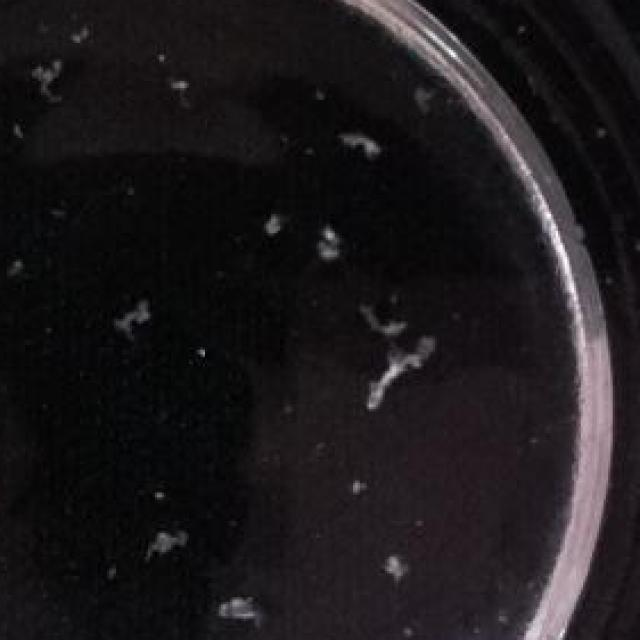Microplastic: (355, 343, 444, 421), (20, 40, 82, 93), (330, 102, 387, 152), (214, 573, 262, 628), (52, 24, 107, 66), (114, 292, 159, 338), (364, 307, 410, 347), (146, 512, 193, 547), (312, 212, 342, 266), (389, 543, 426, 578), (255, 212, 276, 240)
